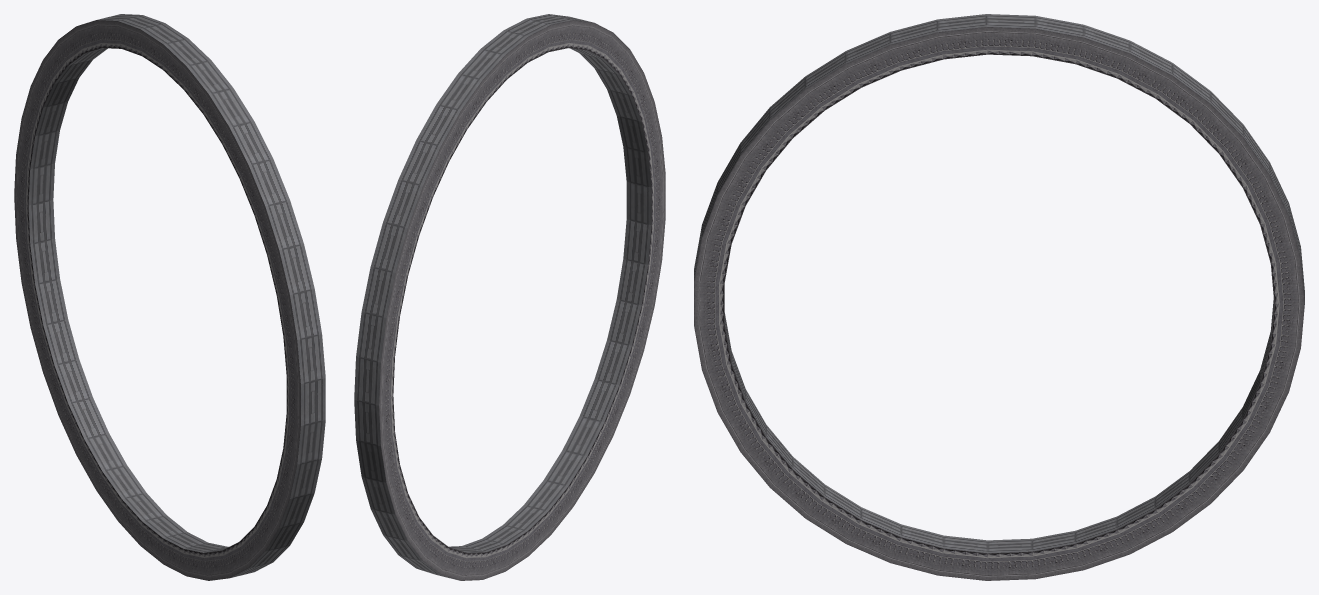
The model's file is outer_ring.obj.
The picture shows the model from 3 angles, left to right: view 1: azimuth 30°, elevation 25°; view 2: azimuth 150°, elevation 25°; view 3: azimuth 270°, elevation 25°; orthographic projection. The views are drawn at different scales.
Parts seen in each view (by area): view 1: Cercle; view 2: Cercle; view 3: Cercle.
Boxes of the visible parts, <box> form: Cercle: <box>14,14,325,580</box>; Cercle: <box>354,14,665,580</box>; Cercle: <box>694,14,1304,580</box>.
Bounding box in the file's own units: 0.1 × 2 × 2.
